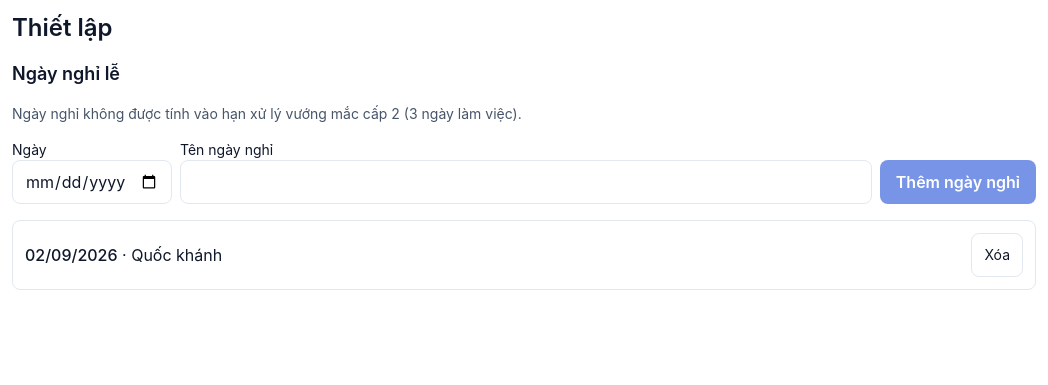
Test case: SettingsPage (holidays) › lists, adds and removes holidays
expect the text "02/09/2026 · Quốc khánh" is shown: met, box [25, 243, 222, 267]
expect the text "02/09/2026" is shown: met, box [25, 245, 118, 265]
Type "2026-09-03" into the date field labelled "Ngày" at (92, 182), box [12, 160, 172, 204]
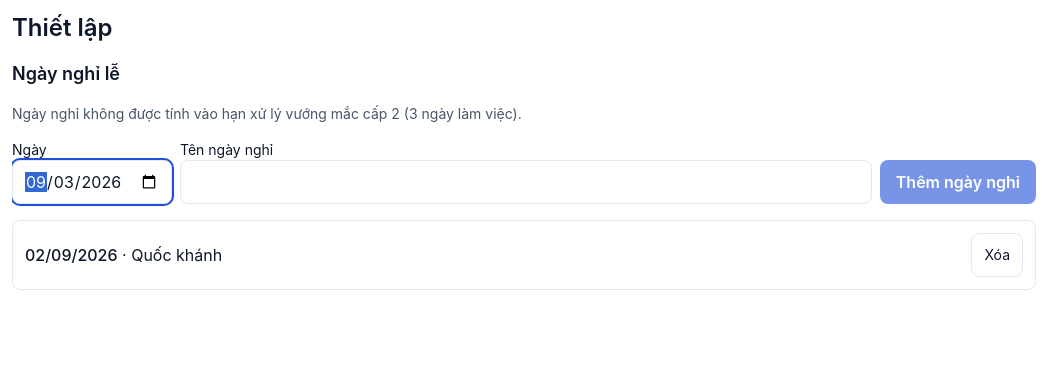
Type "Nghỉ lễ bù" into the field labelled "Tên ngày nghỉ" at (526, 182), box [180, 160, 872, 204]
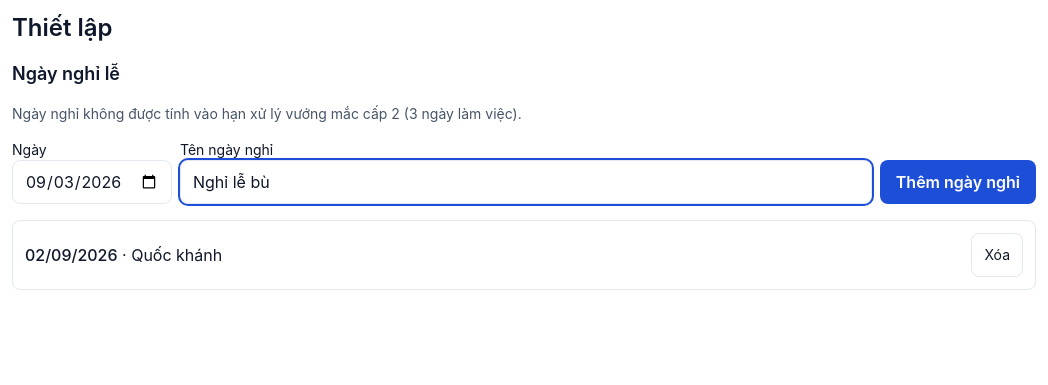
Click the button "Thêm ngày nghỉ" at (958, 182), box [880, 160, 1036, 204]
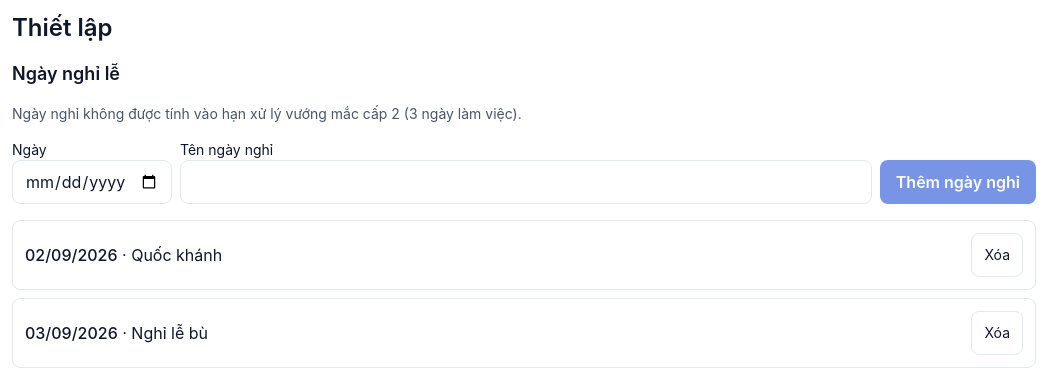
expect the text "03/09/2026 · Nghỉ lễ bù" is shown: met, box [25, 321, 208, 345]
Click the button "Xóa" in the row of "02/09/2026" at (997, 255), box [972, 233, 1023, 277]
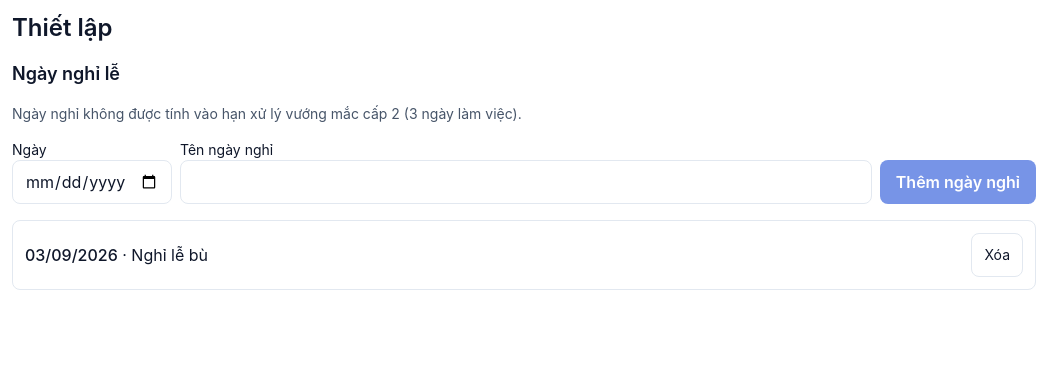
expect the text "Quốc khánh" is gone: met
